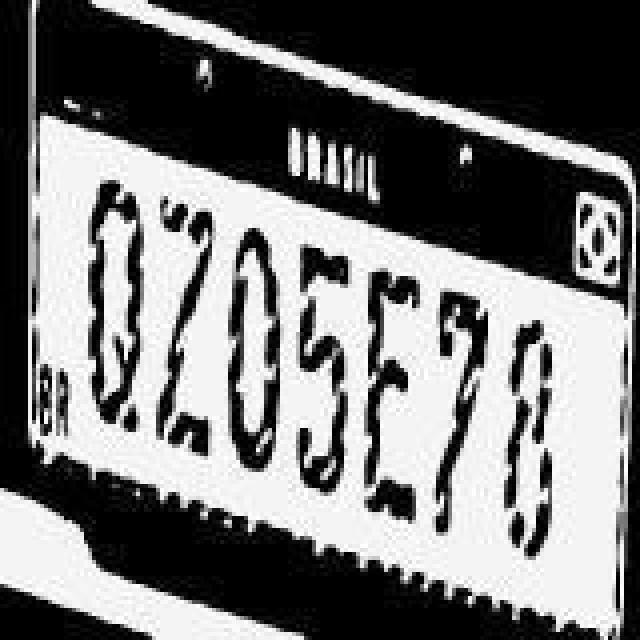5: (296, 238, 352, 498)
7: (434, 286, 494, 546)
8: (500, 316, 556, 564)
E: (364, 266, 420, 534)
O: (226, 210, 286, 478)
Q: (78, 174, 146, 442)
Z: (154, 190, 214, 466)
